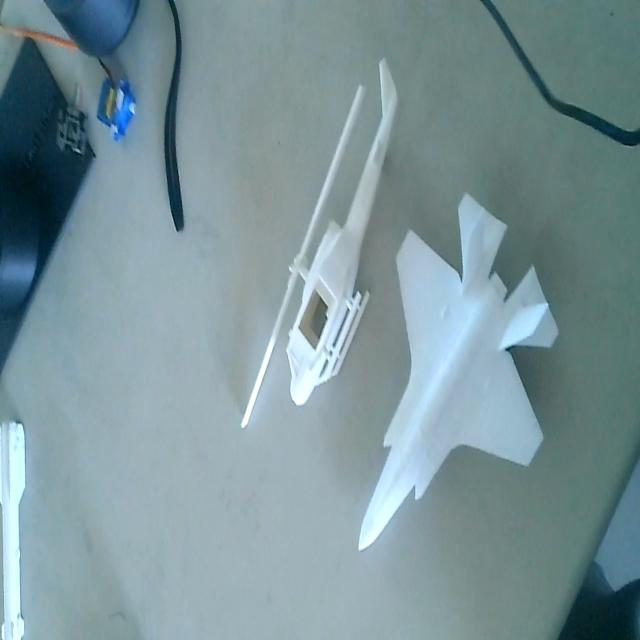Helicopter: (240, 57, 396, 431)
Jet: (357, 193, 560, 558)
Rocket: (1, 412, 30, 640)
